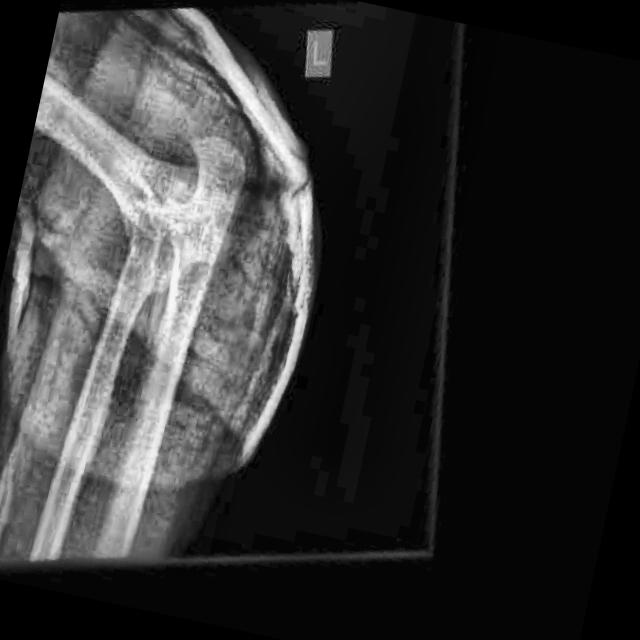elbow positive: (134, 120, 235, 247)
